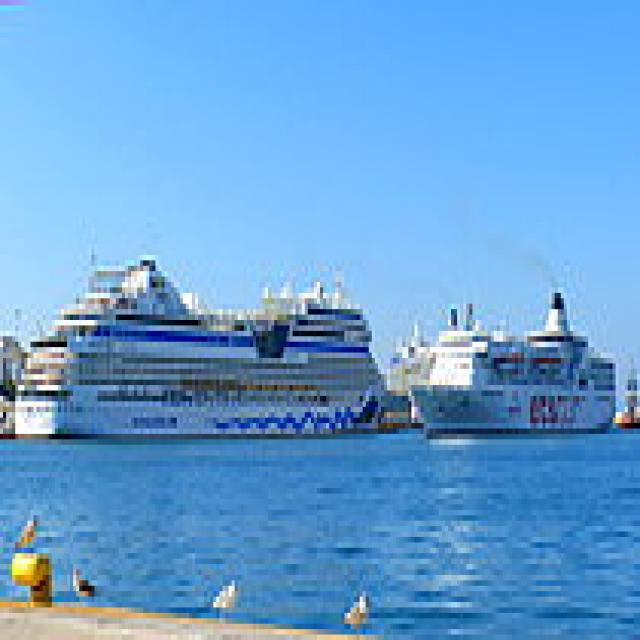Ship: (1, 234, 403, 456), (400, 283, 632, 451)
